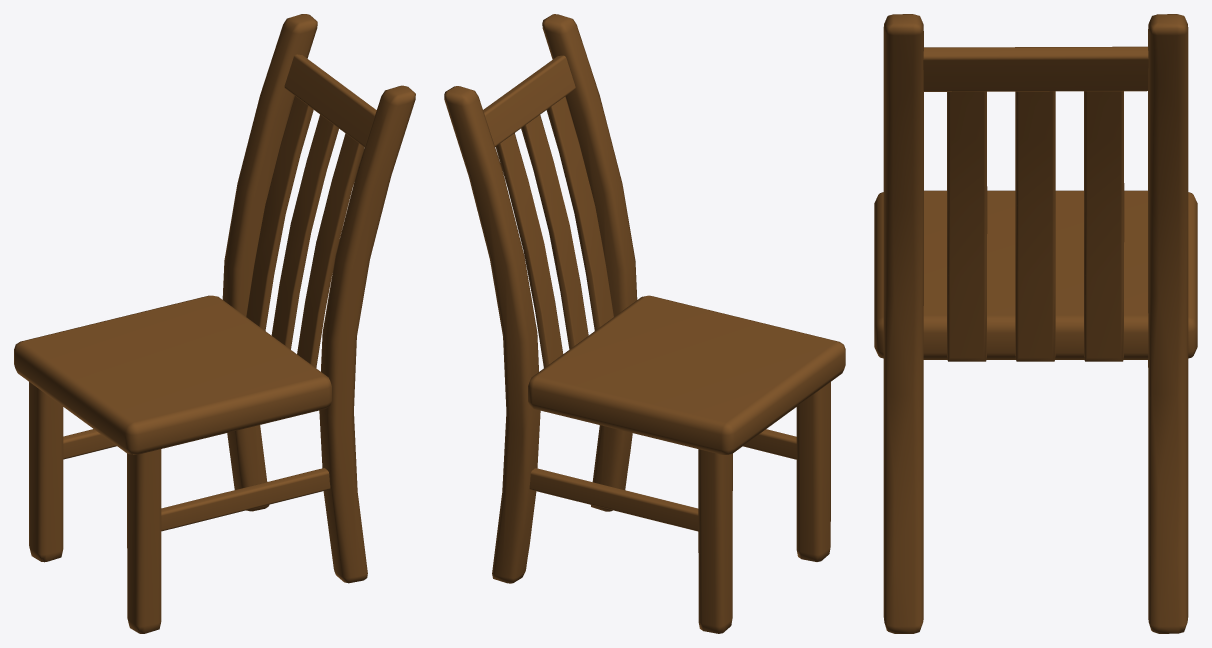
File: chair_04_wooden.fbx
3 views of the same model, side by side, from view 1: azimuth 30°, elevation 25°; view 2: azimuth 150°, elevation 25°; view 3: azimuth 270°, elevation 25° (orthographic). The views are drawn at different scales.
Visible parts, largest first — view 1: chair_04_wooden; view 2: chair_04_wooden; view 3: chair_04_wooden.
Part boxes in pixels (x1,y1,x2,y2): chair_04_wooden: (14, 14, 415, 633); chair_04_wooden: (444, 14, 845, 633); chair_04_wooden: (874, 14, 1197, 633).
Size of the model in its own units: 67.91 by 106 by 48.29.
1 material, 1 textured.
